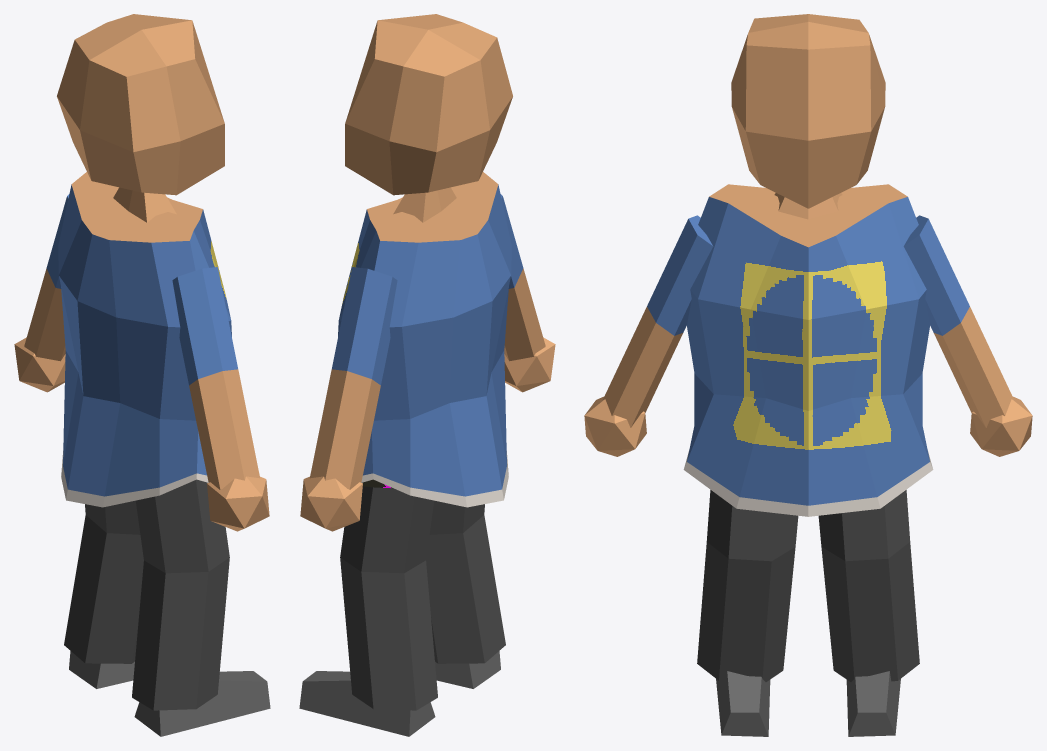
The model's file is player_model_nomirror.glb.
3 views of the same model, side by side, from view 1: azimuth 30°, elevation 25°; view 2: azimuth 150°, elevation 25°; view 3: azimuth 270°, elevation 25° (orthographic).
Visible parts, largest first — view 1: torso, head, lower_leg.r, lower_leg.l, upper_leg.r, lower_arm.r, upper_arm.r, foot.r, hand.r, lower_arm.l, hand.l, foot.l (+3 smaller); view 2: torso, head, lower_leg.l, lower_leg.r, upper_leg.l, lower_arm.l, upper_arm.l, foot.l, hand.l, lower_arm.r, hand.r, foot.r (+3 smaller); view 3: torso, head, lower_leg.l, lower_leg.r, lower_arm.l, lower_arm.r, upper_leg.l, upper_leg.r, upper_arm.l, upper_arm.r, foot.l, foot.r (+3 smaller).
Part boxes in pixels (bbox=[...]): torso: bbox=[58, 172, 231, 507]; head: bbox=[57, 14, 224, 195]; lower_leg.r: bbox=[132, 557, 229, 710]; lower_leg.l: bbox=[64, 515, 143, 663]; upper_leg.r: bbox=[135, 479, 229, 573]; lower_arm.r: bbox=[189, 369, 259, 489]; upper_arm.r: bbox=[172, 267, 237, 385]; foot.r: bbox=[134, 671, 270, 736]; hand.r: bbox=[207, 476, 269, 531]; lower_arm.l: bbox=[24, 268, 65, 361]; hand.l: bbox=[14, 337, 65, 392]; foot.l: bbox=[69, 651, 134, 688]; torso: bbox=[338, 172, 511, 507]; head: bbox=[345, 14, 512, 195]; lower_leg.l: bbox=[340, 557, 437, 710]; lower_leg.r: bbox=[426, 515, 505, 663]; upper_leg.l: bbox=[340, 486, 434, 573]; lower_arm.l: bbox=[310, 369, 380, 489]; upper_arm.l: bbox=[332, 267, 397, 385]; foot.l: bbox=[299, 671, 435, 736]; hand.l: bbox=[300, 476, 362, 531]; lower_arm.r: bbox=[504, 268, 545, 361]; hand.r: bbox=[504, 337, 555, 392]; foot.r: bbox=[435, 651, 500, 688]; torso: bbox=[683, 184, 933, 516]; head: bbox=[731, 14, 885, 208]; lower_leg.l: bbox=[821, 542, 919, 681]; lower_leg.r: bbox=[697, 542, 795, 681]; lower_arm.l: bbox=[934, 307, 1013, 427]; lower_arm.r: bbox=[603, 307, 682, 427]; upper_leg.l: bbox=[818, 490, 910, 561]; upper_leg.r: bbox=[706, 490, 798, 561]; upper_arm.l: bbox=[903, 215, 969, 335]; upper_arm.r: bbox=[647, 215, 713, 335]; foot.l: bbox=[846, 671, 900, 736]; foot.r: bbox=[716, 671, 770, 736].
Bounding box in the file's own units: 1.31 × 5.15 × 3.11.
Materials: 4 (1 with a texture image).
